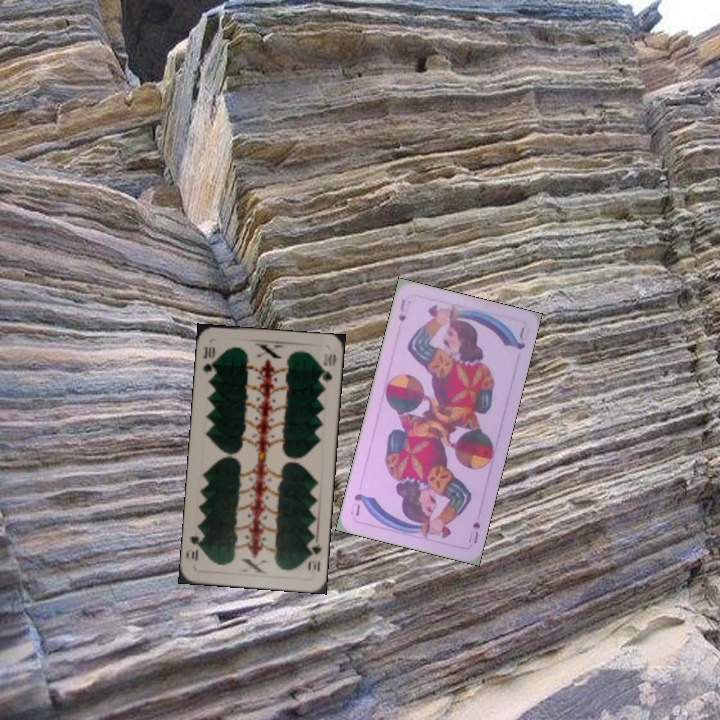G10: (198, 341, 218, 380), (304, 543, 324, 577)
SU: (464, 517, 483, 546), (394, 295, 410, 324)
